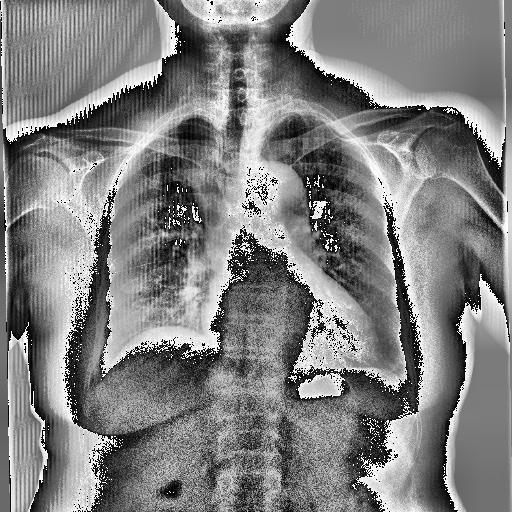0- Aortic enlargement: (184, 149, 326, 264), (255, 146, 319, 252)
3- Cardiomegaly: (190, 252, 389, 386)
7- Lung Opacity: (190, 125, 226, 204)
9- Other lesion: (172, 104, 243, 205)
